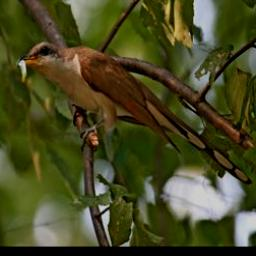Cuckoo: (11, 39, 253, 186)
